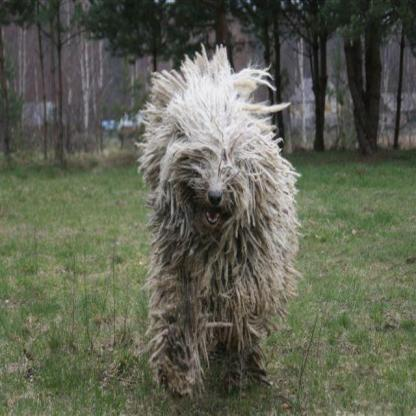komondor: (134, 40, 302, 407)
